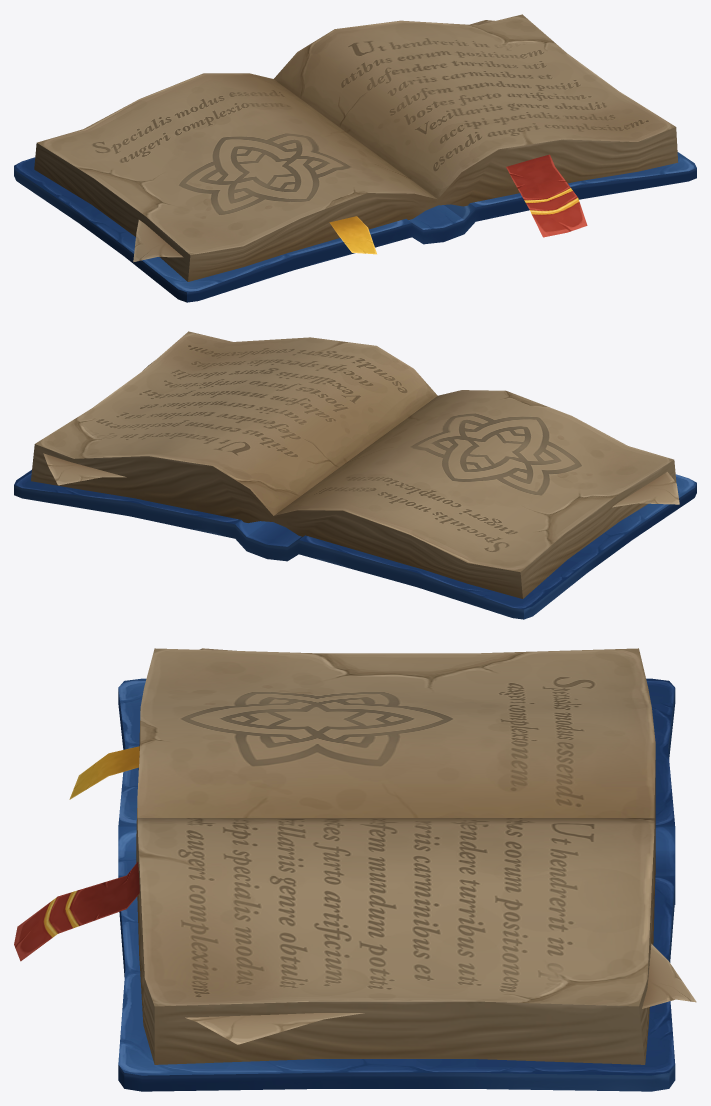
File: Book_opened.FBX
3 views of the same model, one above another, from view 1: azimuth 30°, elevation 25°; view 2: azimuth 150°, elevation 25°; view 3: azimuth 270°, elevation 25° (orthographic). The views are drawn at different scales.
Parts seen in each view (by area): view 1: Book_opened; view 2: Book_opened; view 3: Book_opened.
Boxes of the visible parts, <box> form: Book_opened: <box>14,14,696,302</box>; Book_opened: <box>14,331,696,619</box>; Book_opened: <box>14,648,696,1091</box>.
Bounding box in the file's own units: 918 × 121 × 649.
